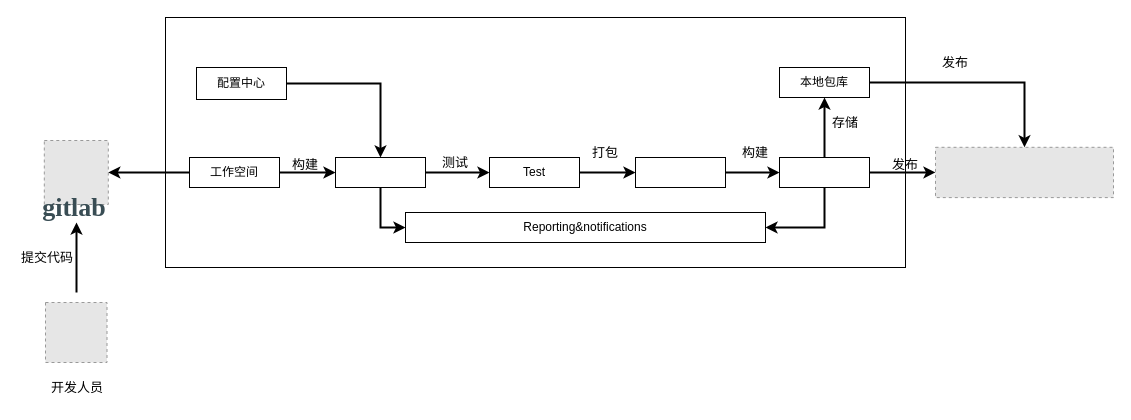
This 1131x420 diagram has some shape labels left out. Grey dashed boxes stand in for pictures. Each missing label, with the centre of its shape:
Build: (x=380, y=172)
deploy: (x=824, y=172)
Package: (x=680, y=172)
